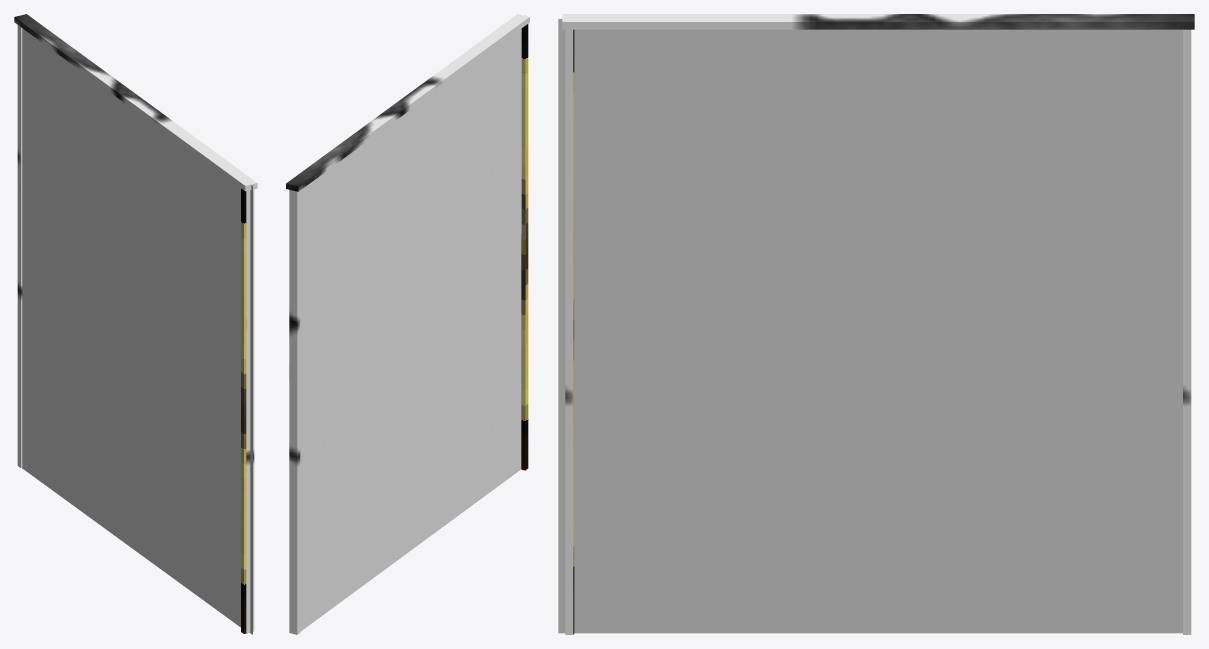
File: 铁栅栏.FBX
The picture shows the model from 3 angles, left to right: view 1: azimuth 30°, elevation 25°; view 2: azimuth 150°, elevation 25°; view 3: azimuth 270°, elevation 25°; orthographic projection. The views are drawn at different scales.
Parts seen in each view (by area): view 1: Box14, Object16; view 2: Box14; view 3: Object16, Box14.
Part boxes in pixels (x1=…): Box14: x1=14, y1=14, x2=257, y2=633; Object16: x1=250, y1=185, x2=252, y2=634; Box14: x1=286, y1=14, x2=529, y2=634; Object16: x1=558, y1=19, x2=1182, y2=633; Box14: x1=562, y1=14, x2=1194, y2=634.
Size of the model in its own units: 3.63 by 120 by 128.
